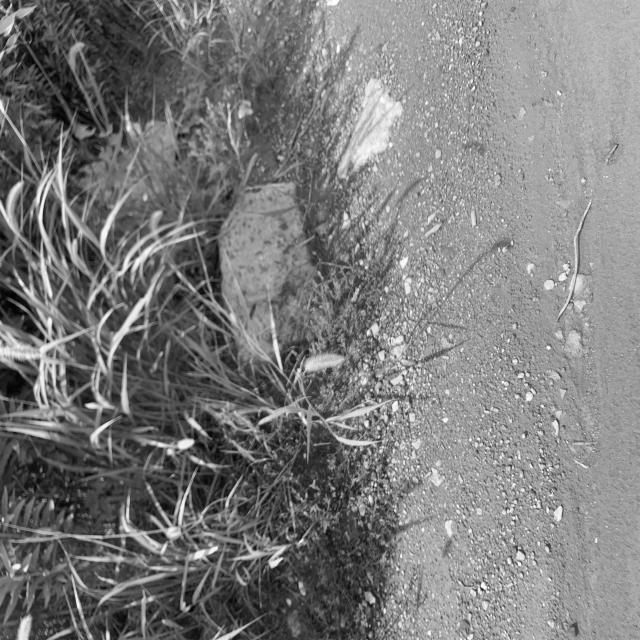Stone: (219, 182, 315, 352)
